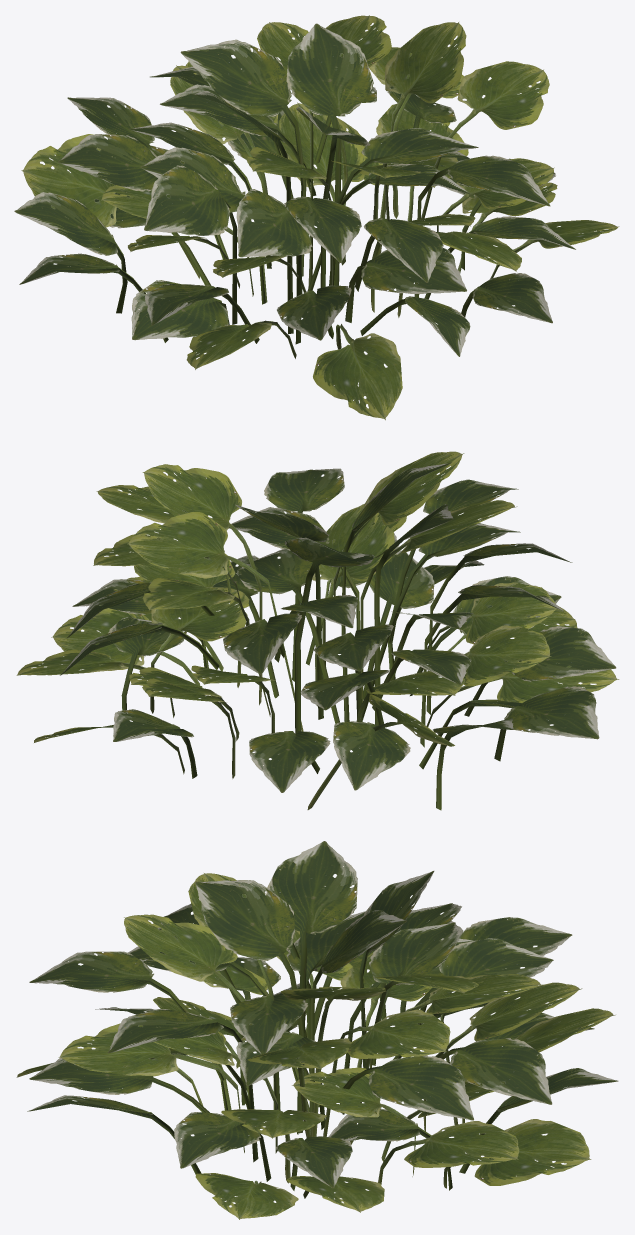
The model's file is NaturePlant01_3.FBX.
3 views of the same model, one above another, from view 1: azimuth 30°, elevation 25°; view 2: azimuth 150°, elevation 25°; view 3: azimuth 270°, elevation 25° (orthographic). The views are drawn at different scales.
Parts seen in each view (by area): view 1: Nature03; view 2: Nature03; view 3: Nature03.
Part boxes in pixels (bbox=[...]): Nature03: bbox=[14, 15, 619, 420]; Nature03: bbox=[16, 451, 619, 810]; Nature03: bbox=[16, 841, 618, 1219].
Size of the model in its own units: 71.24 by 31.82 by 69.34.
Materials: 1 (1 with a texture image).
